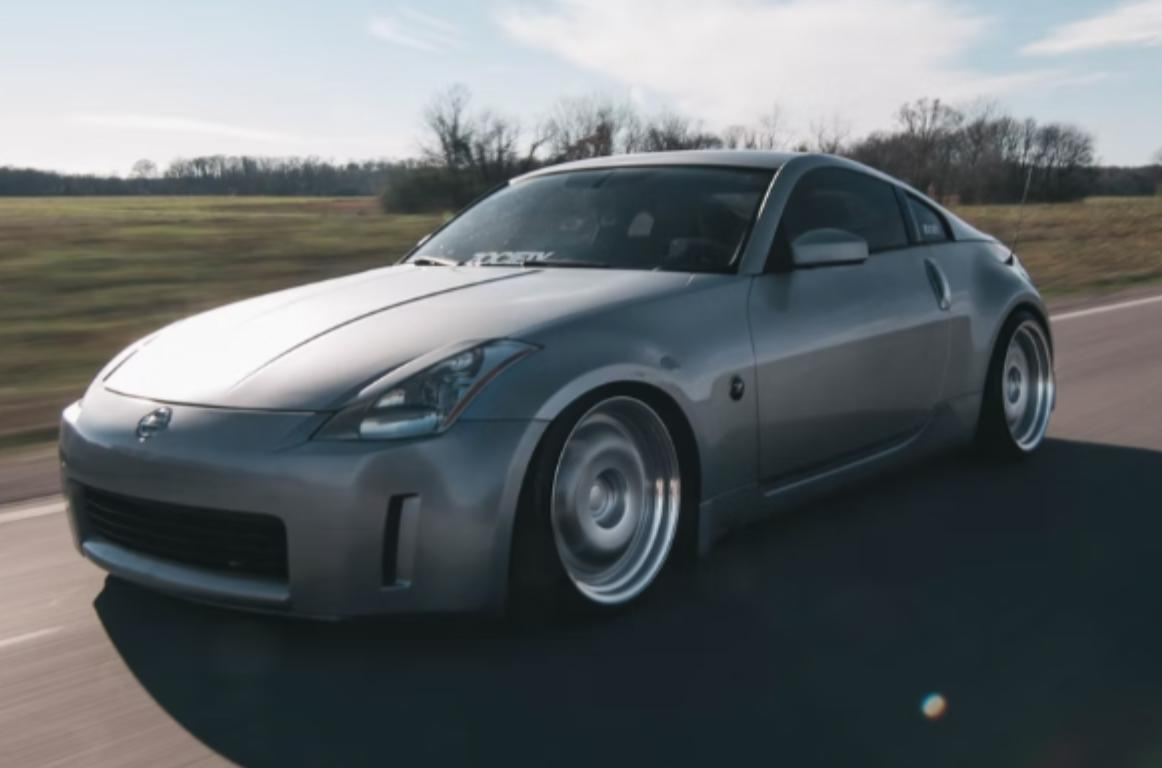car: (52, 127, 1107, 650)
